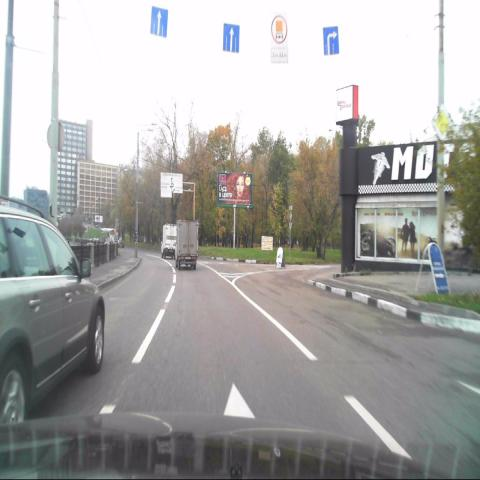5_15_2: (223, 22, 239, 54)
